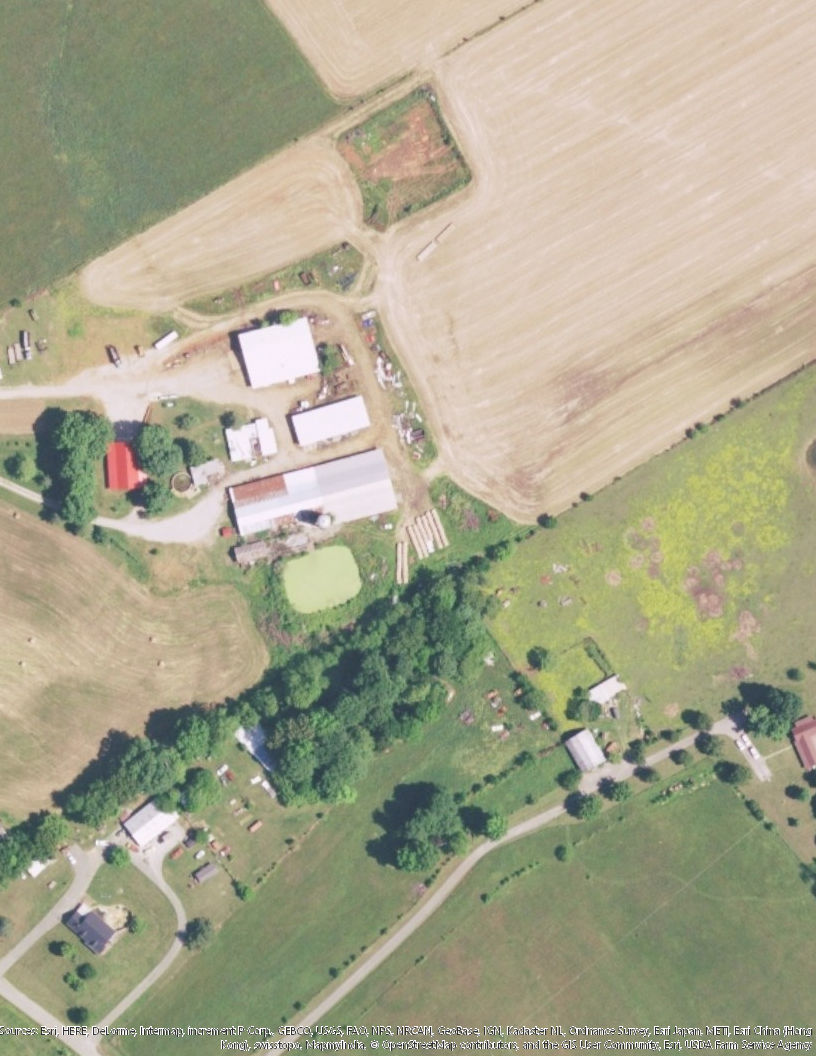cafo: (219, 444, 407, 545), (288, 391, 384, 445)
